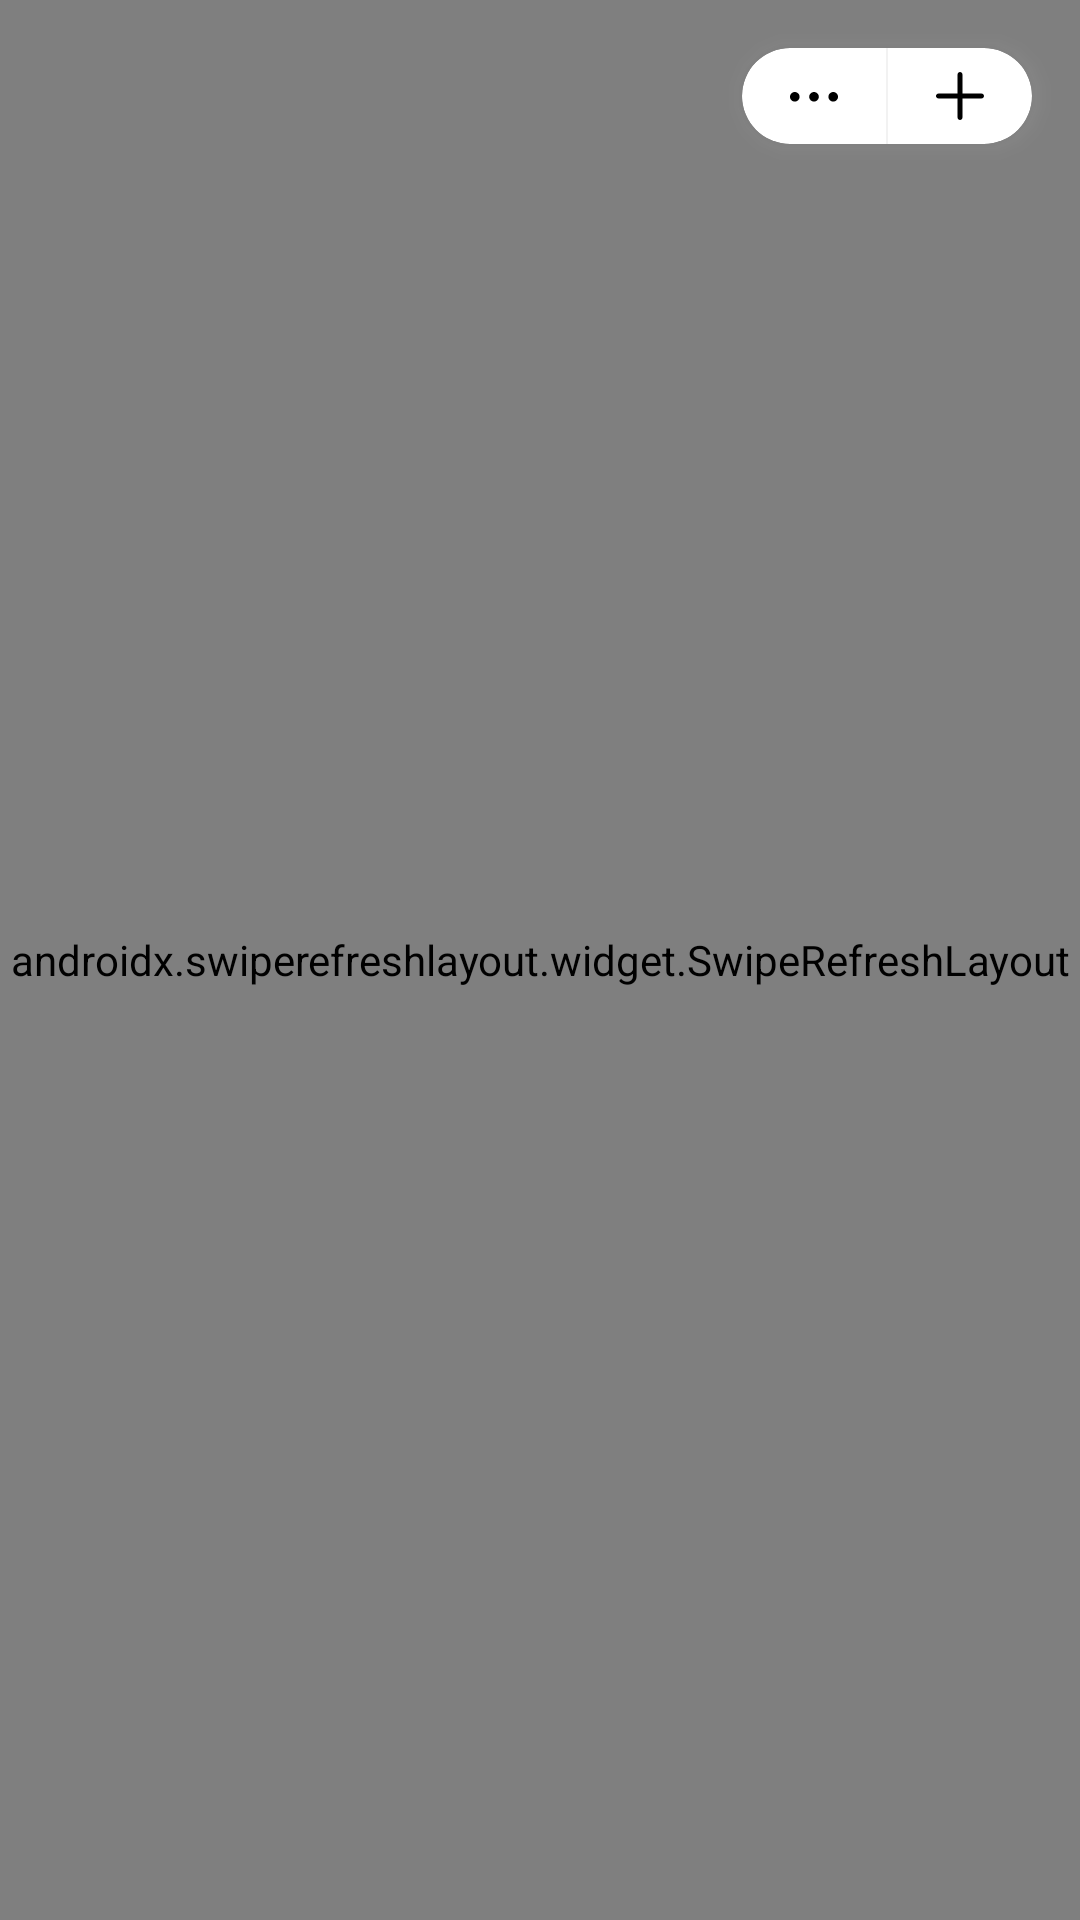

Locate icon controls on the screen. Image size 1080x1920, boxes as (x1, y1, x2, y2).
更多: (742, 48, 886, 144)
添加: (888, 48, 1032, 144)
